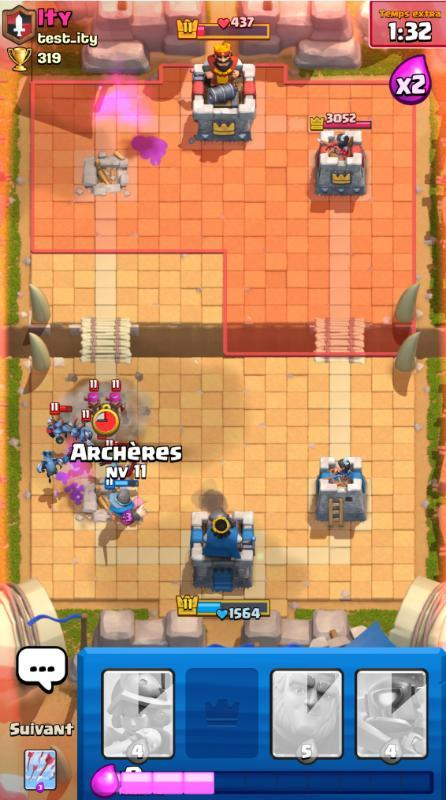archere: (105, 378, 126, 416), (83, 379, 104, 415), (132, 497, 148, 525)
chevalier: (104, 477, 148, 526), (105, 439, 149, 478)
gargouille: (36, 450, 69, 483), (47, 402, 72, 439), (72, 410, 93, 444)
